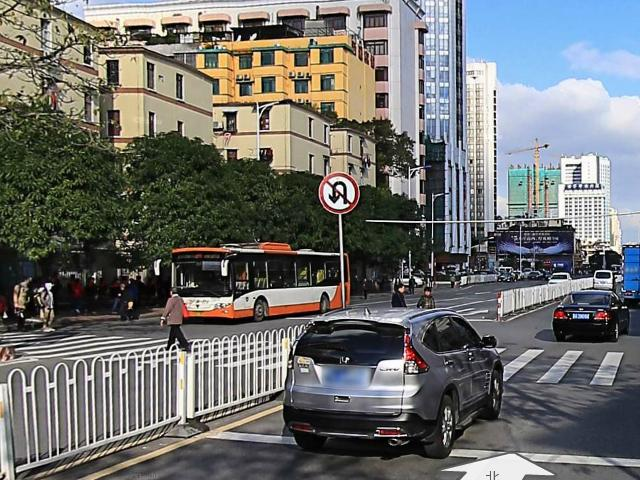not_u_turn_left: (318, 174, 360, 214)
